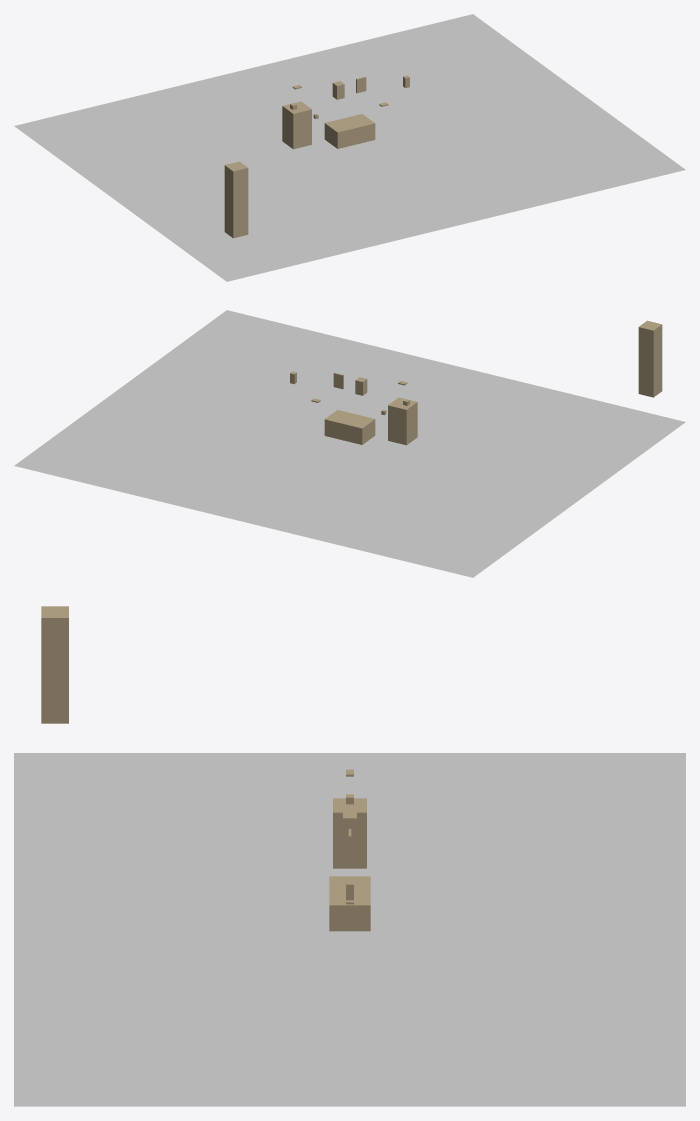
File: draft-95f9bc55.obj
The picture shows the model from 3 angles, top to bottom: view 1: azimuth 30°, elevation 25°; view 2: azimuth 150°, elevation 25°; view 3: azimuth 270°, elevation 25°; orthographic projection. The views are drawn at different scales.
Visible parts, largest first — view 1: Floor, asm_lamp_floor_3, asm_table_coffee_2, asm_chair_standard_1; view 2: Floor, asm_lamp_floor_3, asm_table_coffee_2, asm_chair_standard_1; view 3: Floor, asm_lamp_floor_3, asm_table_coffee_2, asm_chair_standard_1.
Part boxes in pixels (x1,y1,x2,y2): Floor: (14, 14, 685, 281); asm_lamp_floor_3: (224, 161, 248, 238); asm_table_coffee_2: (324, 114, 375, 148); asm_chair_standard_1: (282, 101, 311, 149); Floor: (14, 310, 685, 577); asm_lamp_floor_3: (638, 320, 662, 397); asm_table_coffee_2: (324, 410, 375, 444); asm_chair_standard_1: (388, 397, 417, 445); Floor: (14, 753, 685, 1106); asm_lamp_floor_3: (41, 606, 68, 723); asm_table_coffee_2: (329, 876, 370, 931); asm_chair_standard_1: (333, 798, 366, 868).
Bounding box in the file's own units: 6.1 × 1.27 × 4.9.
